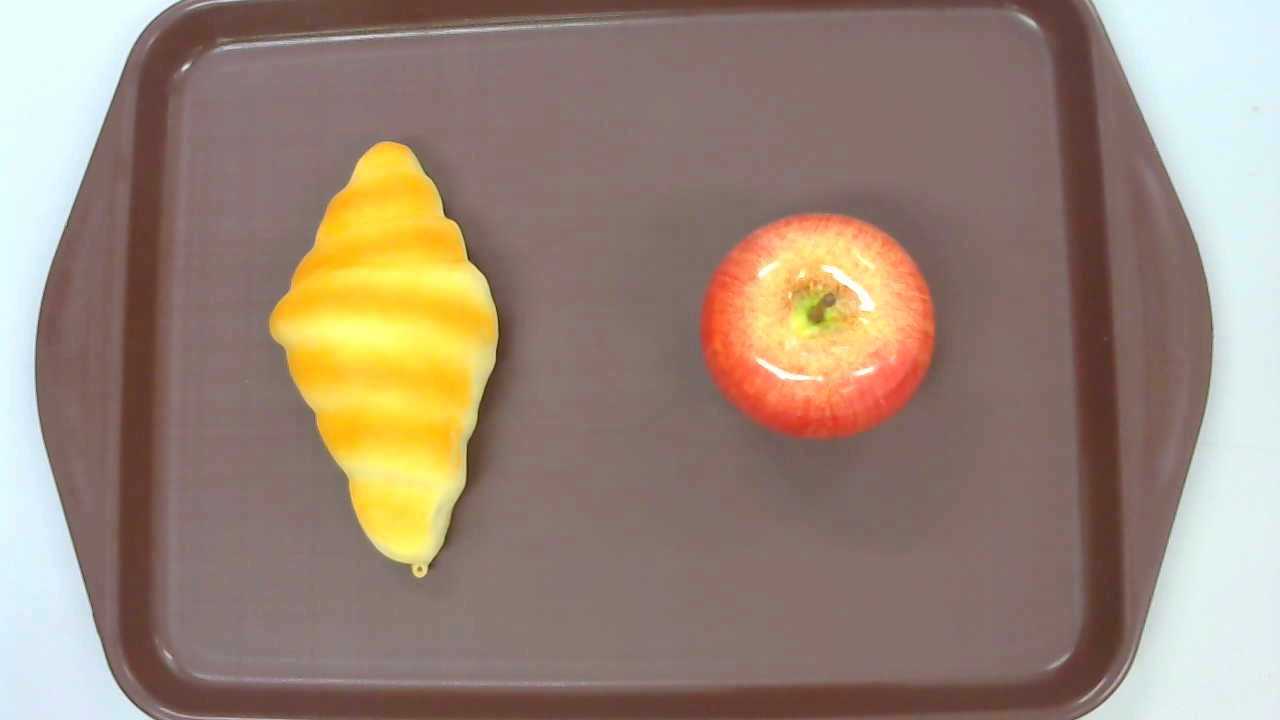croissant: (268, 141, 499, 578)
red apple: (701, 211, 935, 438)
